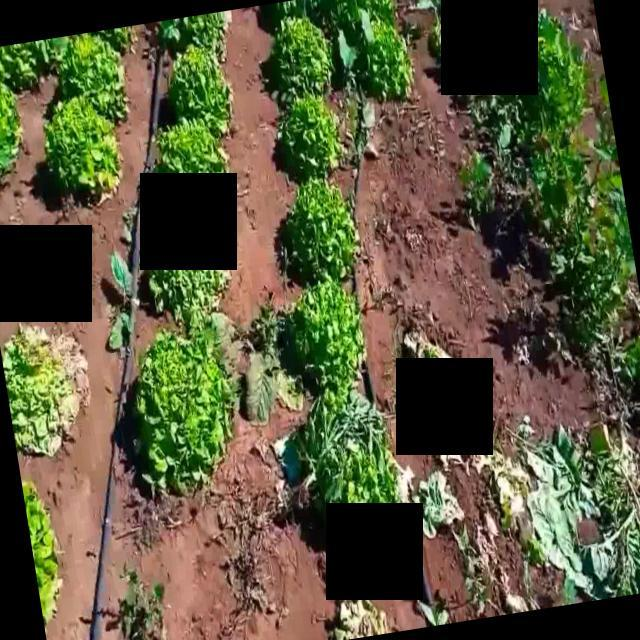Lettuce: (134, 335, 235, 498), (0, 328, 94, 457), (308, 392, 402, 504), (285, 274, 366, 388), (42, 94, 124, 202), (287, 177, 364, 279), (146, 262, 233, 337), (19, 476, 66, 612), (274, 92, 338, 176), (354, 14, 414, 102), (53, 31, 130, 99), (273, 14, 335, 96), (152, 117, 234, 173), (170, 44, 232, 114)
